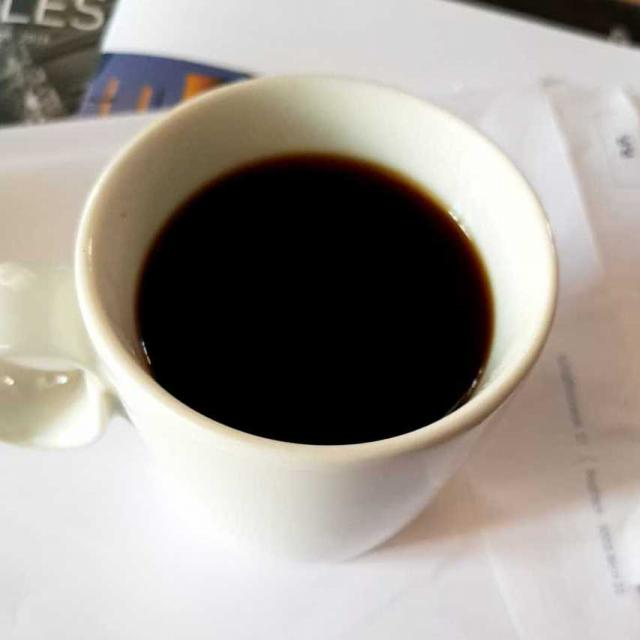espresso-with-caffeine: (135, 156, 493, 442)
